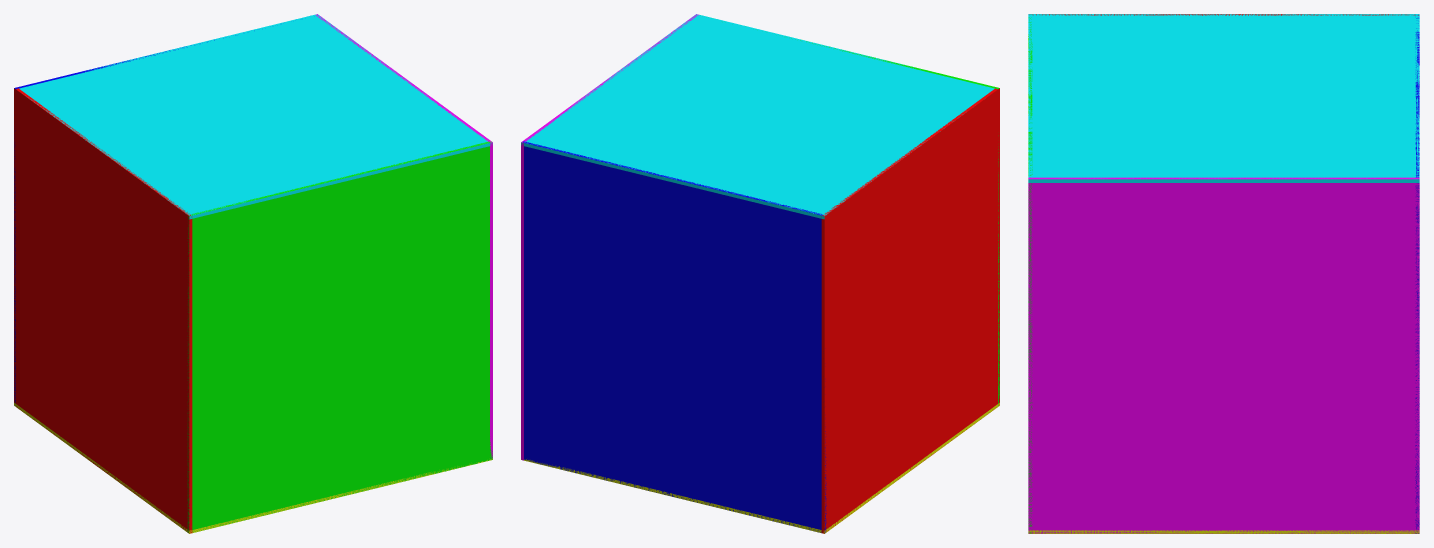
File: cubo_plegado.glb
The picture shows the model from 3 angles, left to right: view 1: azimuth 30°, elevation 25°; view 2: azimuth 150°, elevation 25°; view 3: azimuth 270°, elevation 25°; orthographic projection. The views are drawn at different scales.
Parts seen in each view (by area): view 1: verde, rojo, Box006, cian, rosa, azul; view 2: azul, rojo, Box006, cian, rosa, verde; view 3: rosa, Box006, cian, verde, azul, rojo.
Part boxes in pixels (left/top/right/bottom): verde: left=187, top=141, right=492, bottom=532; rojo: left=14, top=87, right=192, bottom=533; Box006: left=19, top=14, right=492, bottom=219; cian: left=14, top=402, right=492, bottom=533; rosa: left=315, top=14, right=492, bottom=458; azul: left=14, top=30, right=254, bottom=405; azul: left=522, top=141, right=826, bottom=532; rojo: left=821, top=88, right=999, bottom=533; Box006: left=521, top=14, right=994, bottom=219; cian: left=521, top=402, right=999, bottom=533; rosa: left=521, top=14, right=698, bottom=460; verde: left=791, top=38, right=999, bottom=406; rosa: left=1028, top=177, right=1419, bottom=533; Box006: left=1028, top=14, right=1419, bottom=182; cian: left=1028, top=530, right=1419, bottom=533; verde: left=1028, top=17, right=1032, bottom=533; azul: left=1415, top=15, right=1419, bottom=533; rojo: left=1029, top=14, right=1419, bottom=15.
Size of the model in its own units: 0.762 by 0.762 by 0.762.
